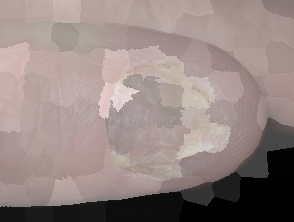Nail_psoriasis: (68, 28, 267, 219)
